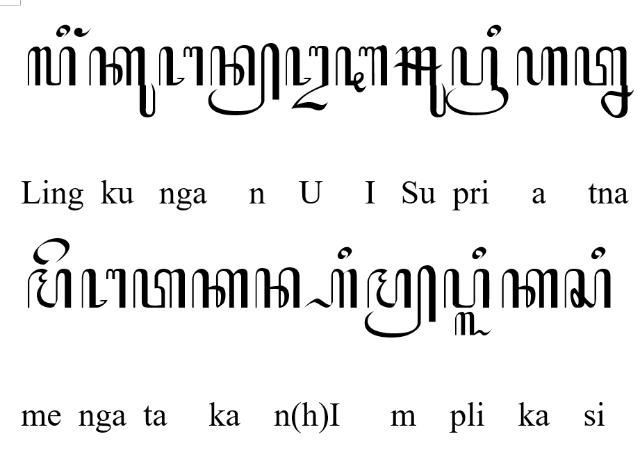-m: (363, 264, 437, 338)
-n: (208, 42, 280, 116)
I: (334, 44, 388, 92)
Su: (394, 46, 446, 118)
U: (285, 46, 331, 110)
_h: (303, 267, 359, 309)
_l: (453, 311, 492, 337)
e: (32, 238, 70, 266)
h: (516, 46, 568, 87)
i: (471, 245, 487, 260), (56, 22, 70, 38), (486, 24, 502, 38), (336, 246, 352, 260), (590, 246, 606, 260)
k: (500, 268, 560, 310), (192, 268, 248, 308)
ku: (88, 47, 156, 118)
l: (26, 46, 76, 87)
m: (26, 269, 70, 309)
n: (255, 266, 301, 310)
ng: (74, 27, 90, 37)
nga: (81, 268, 127, 310), (158, 46, 204, 87)
p: (443, 267, 489, 309)
pr: (447, 46, 509, 116)
s: (564, 268, 612, 310)
t: (133, 268, 187, 310)
tn: (574, 46, 634, 118)
